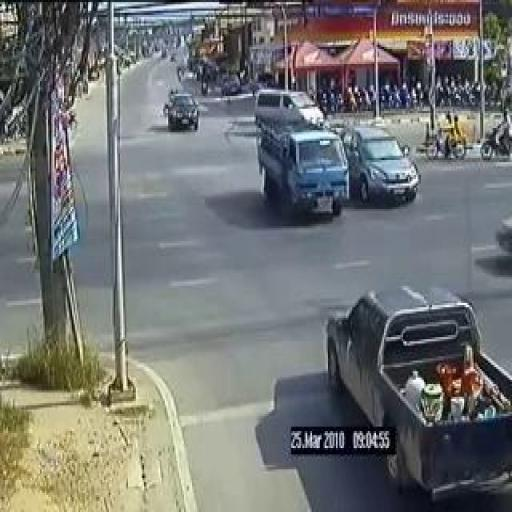Car: (334, 292, 512, 493), (259, 121, 347, 217), (343, 126, 420, 204), (255, 94, 324, 130), (167, 95, 199, 133)
Motor: (427, 118, 467, 158), (483, 117, 512, 160)
